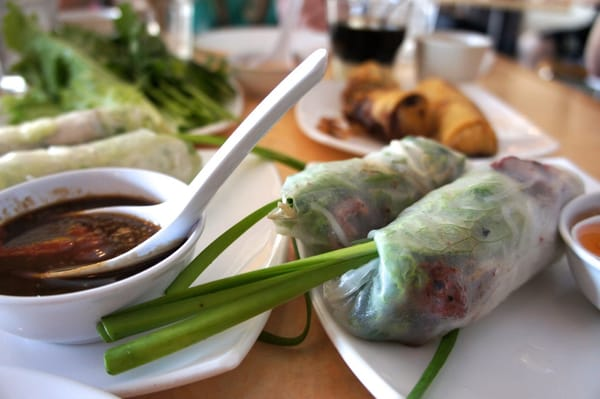pizza: (324, 1, 413, 84), (417, 29, 495, 83)
salad: (1, 44, 332, 348)
soup: (329, 152, 586, 347), (342, 75, 498, 157)
sushi: (557, 190, 600, 314)
